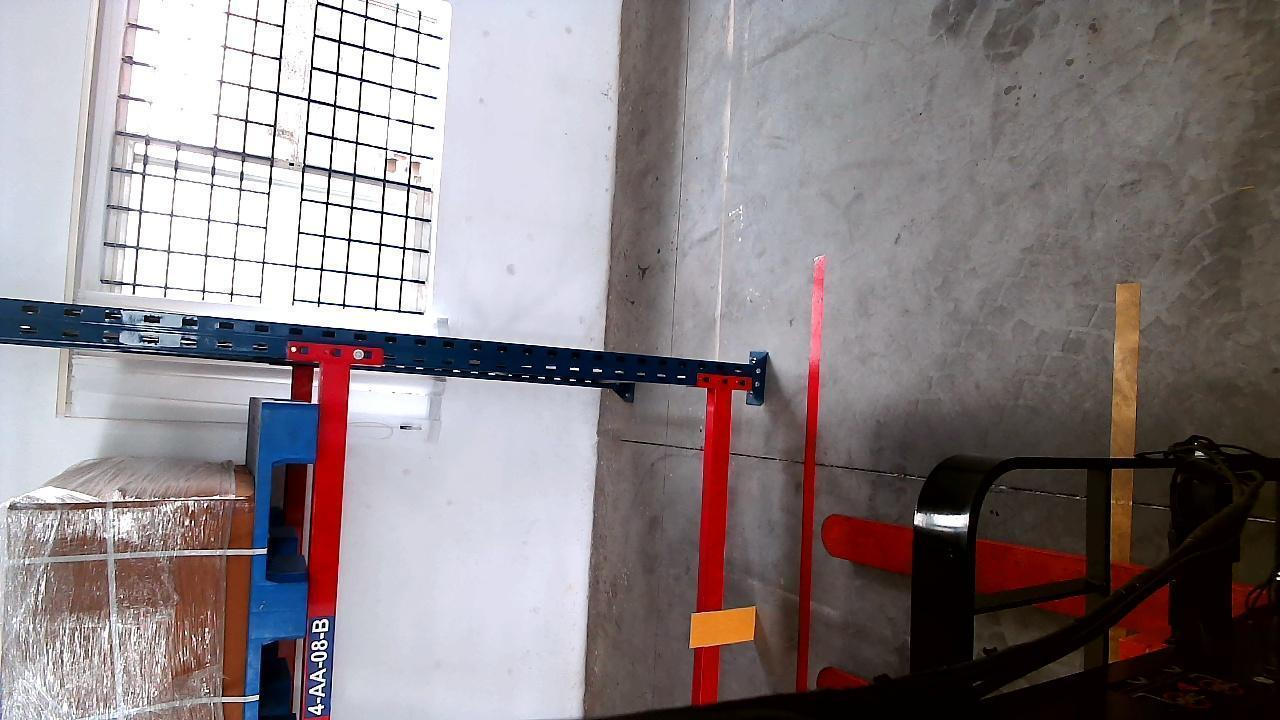red_line: (796, 250, 825, 707)
yellow_line: (1109, 282, 1145, 588)
